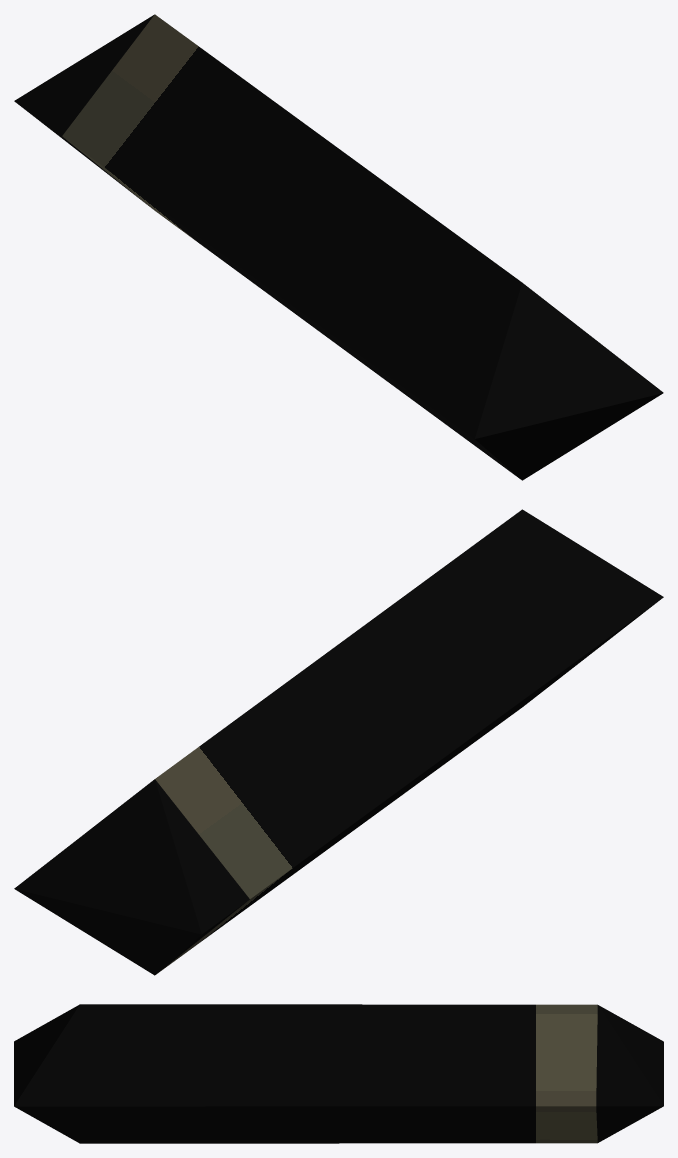
Rendered from maple_thin_trunk_horizontal.obj.
The picture shows the model from 3 angles, top to bottom: view 1: azimuth 30°, elevation 25°; view 2: azimuth 150°, elevation 25°; view 3: azimuth 270°, elevation 25°; orthographic projection. The views are drawn at different scales.
Parts seen in each view (by area): view 1: cube_selection_selection; view 2: cube_selection_selection; view 3: cube_selection_selection.
Boxes of the visible parts, bbox=[...] form: cube_selection_selection: bbox=[14, 14, 663, 480]; cube_selection_selection: bbox=[14, 509, 663, 975]; cube_selection_selection: bbox=[14, 1004, 663, 1143].
Bounding box in the file's own units: 0.3107 × 0.3104 × 1.31.
